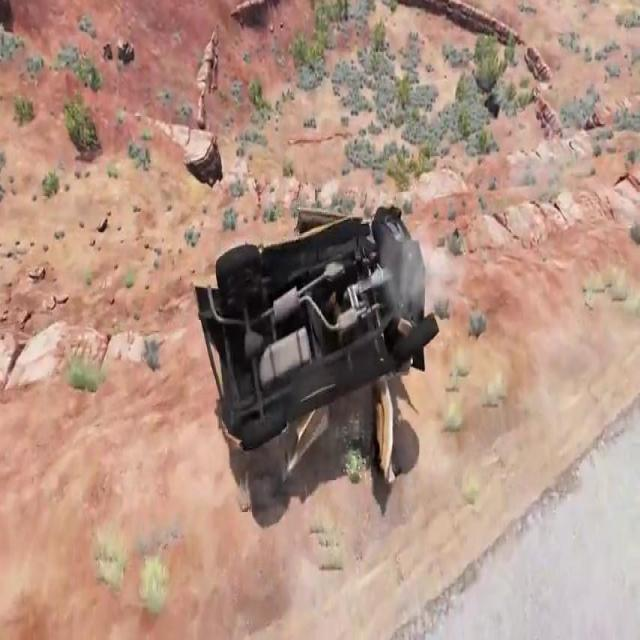severe: (194, 199, 436, 452)
